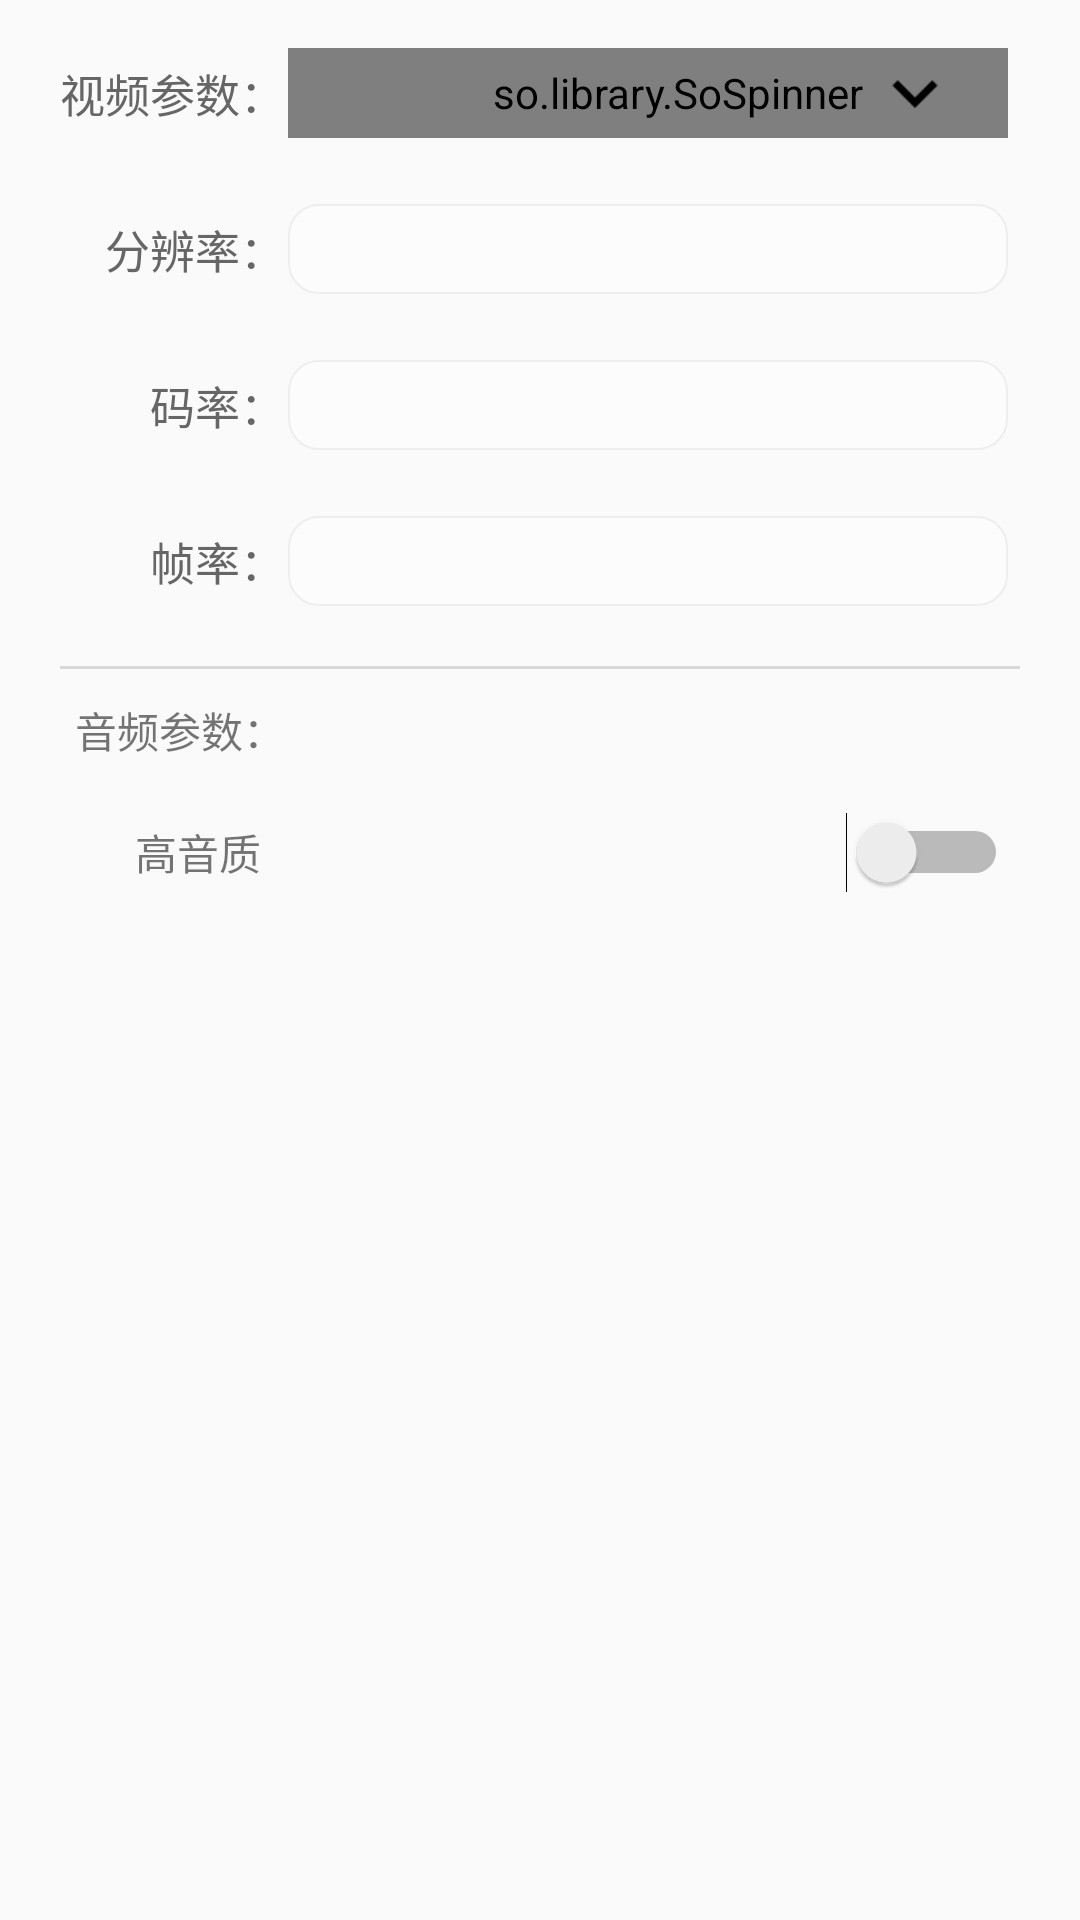

Locate icon controls on the screen. Image size 1080 × 1920, boxes as bbox(x1, y1, x2, y2).
arrow down: bbox(892, 80, 938, 108)
